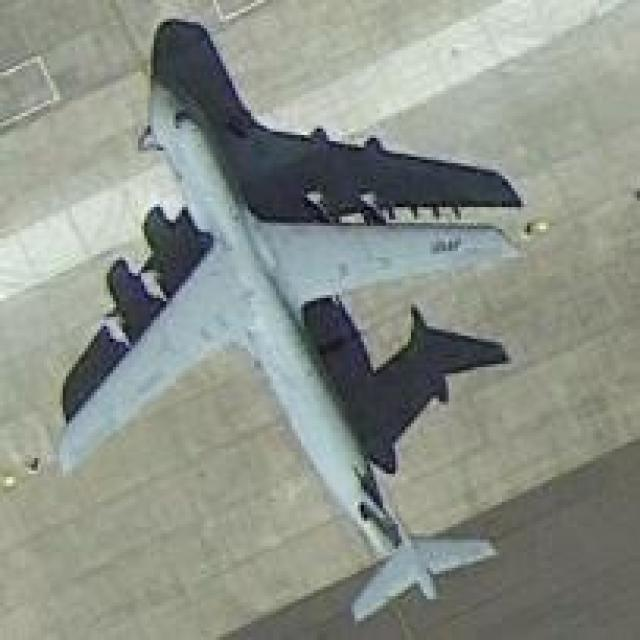C-5_TopDown: (50, 13, 530, 621)
